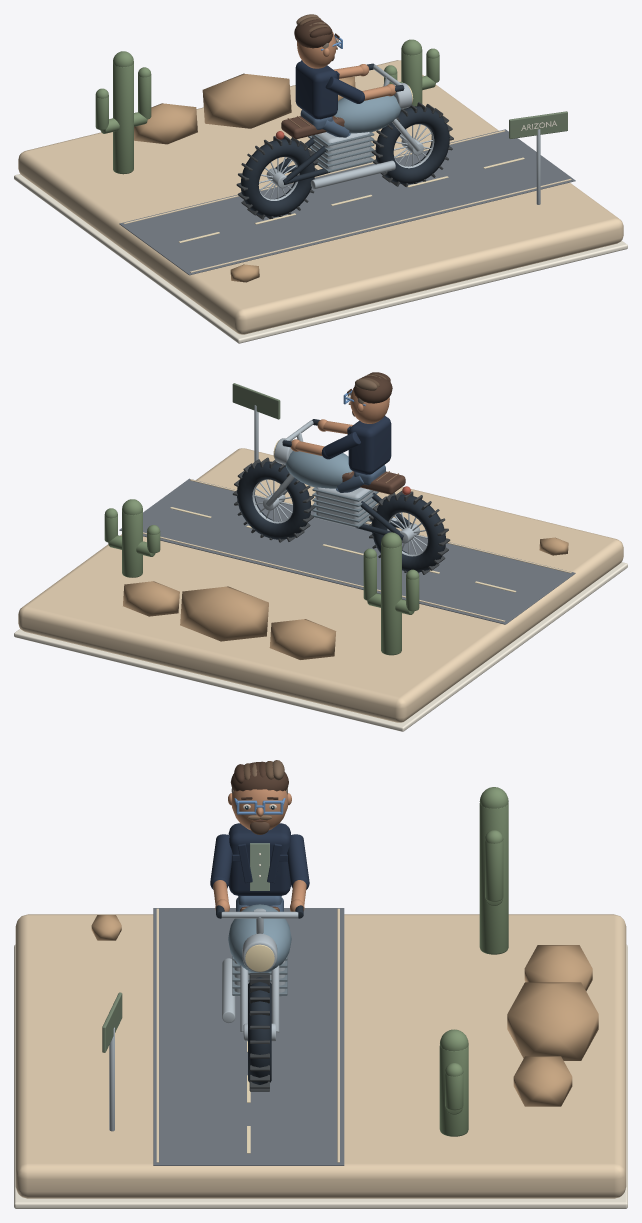
File: road.glb
3 renders of one model, top to bottom at view 1: azimuth 30°, elevation 25°; view 2: azimuth 150°, elevation 25°; view 3: azimuth 270°, elevation 25°, orthographic. The views are drawn at different scales.
Visible parts, largest first — view 1: Square floating plinth.004, Asphalt road, Ivory lower edge.004, Desert rock.001, Tire.002, Tire.003, Cactus trunk, Desert rock, Jacket body.004, Petrol tank.001, Engine.001, Road sign (+9 smaller); view 2: Square floating plinth.004, Asphalt road, Ivory lower edge.004, Desert rock.001, Tire.003, Tire.002, Desert rock, Cactus trunk, Jacket body.004, Petrol tank.001, Desert rock.002, Engine.001 (+8 smaller); view 3: Square floating plinth.004, Asphalt road, Ivory lower edge.004, Desert rock.001, Cactus trunk, Desert rock.002, Jacket body.004, Desert rock, Petrol tank.001, Tire.003, Cactus trunk.001, Face.004 (+13 smaller).
Boxes of the visible parts, left/top/right/bottom form: Square floating plinth.004: left=18, top=60, right=623, bottom=334; Asphalt road: left=119, top=129, right=575, bottom=275; Ivory lower edge.004: left=14, top=174, right=627, bottom=343; Desert rock.001: left=202, top=73, right=291, bottom=128; Tire.002: left=240, top=139, right=314, bottom=217; Tire.003: left=375, top=106, right=449, bottom=184; Cactus trunk: left=113, top=63, right=133, bottom=174; Desert rock: left=134, top=103, right=197, bottom=144; Jacket body.004: left=295, top=61, right=337, bottom=119; Petrol tank.001: left=334, top=95, right=401, bottom=133; Engine.001: left=311, top=132, right=370, bottom=172; Road sign: left=509, top=111, right=567, bottom=138; Square floating plinth.004: left=18, top=448, right=623, bottom=722; Asphalt road: left=119, top=478, right=575, bottom=624; Ivory lower edge.004: left=14, top=562, right=627, bottom=731; Desert rock.001: left=180, top=586, right=268, bottom=641; Tire.003: left=237, top=461, right=311, bottom=539; Tire.002: left=371, top=494, right=445, bottom=572; Desert rock: left=269, top=619, right=336, bottom=659; Cactus trunk: left=381, top=544, right=401, bottom=655; Jacket body.004: left=348, top=416, right=391, bottom=474; Petrol tank.001: left=285, top=451, right=352, bottom=488; Desert rock.002: left=123, top=581, right=179, bottom=616; Engine.001: left=316, top=487, right=375, bottom=527; Square floating plinth.004: left=15, top=914, right=626, bottom=1198; Asphalt road: left=153, top=908, right=344, bottom=1165; Ivory lower edge.004: left=14, top=944, right=627, bottom=1208; Desert rock.001: left=507, top=982, right=598, bottom=1060; Cactus trunk: left=479, top=803, right=508, bottom=954; Desert rock.002: left=513, top=1056, right=572, bottom=1106; Jacket body.004: left=228, top=823, right=290, bottom=895; Desert rock: left=524, top=945, right=592, bottom=991; Petrol tank.001: left=228, top=904, right=291, bottom=972; Tire.003: left=248, top=977, right=271, bottom=1084; Cactus trunk.001: left=439, top=1045, right=468, bottom=1136; Face.004: left=231, top=789, right=287, bottom=830.
Size of the model in its own units: 5.53 by 2.96 by 5.53.
